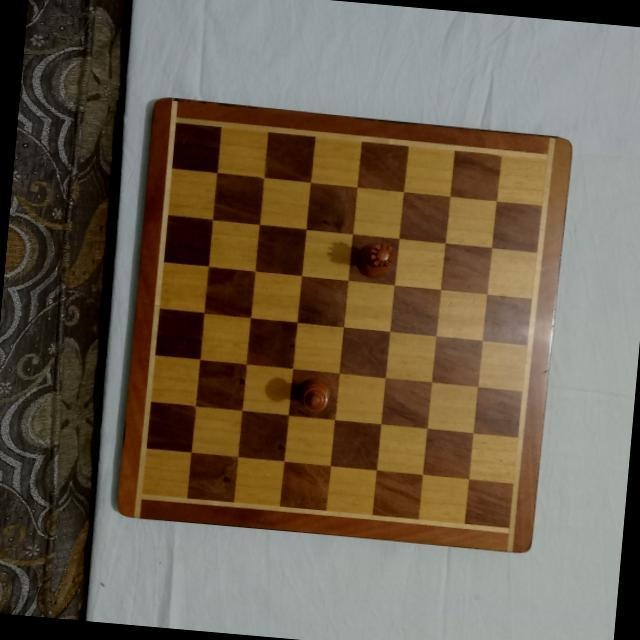white-king: (295, 376, 332, 414)
white-queen: (351, 241, 396, 279)
